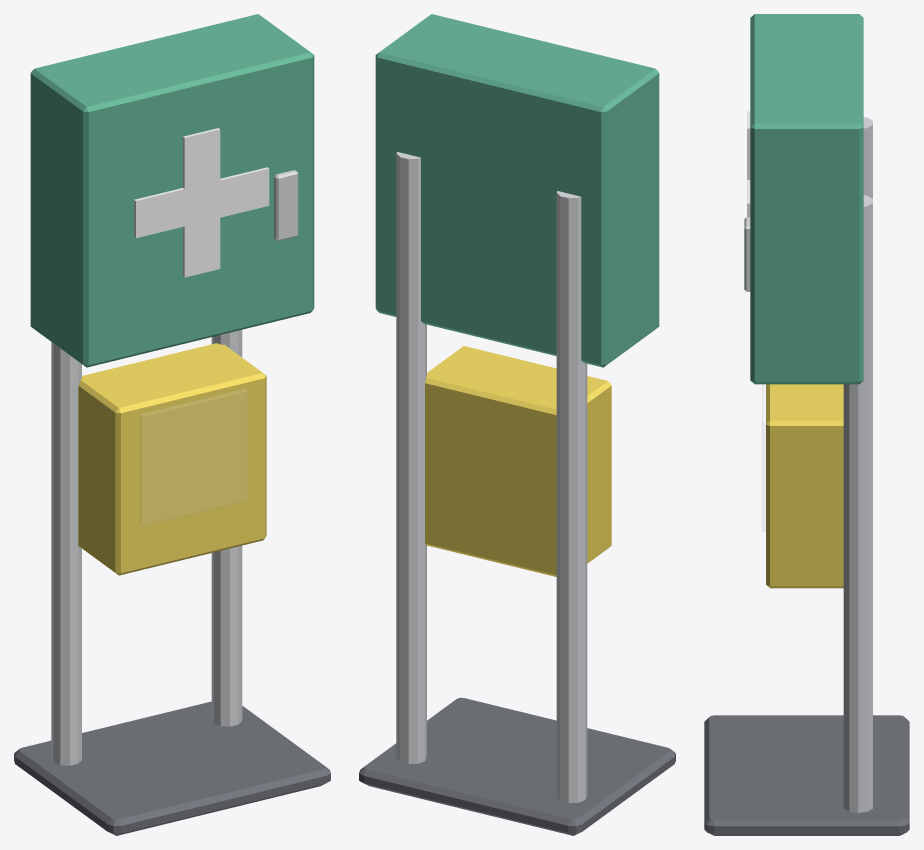
File: public-swimming-baths-and-poolside-poolside-first-aid--77ab8f2f__35254.glb
3 renders of one model, left to right at view 1: azimuth 30°, elevation 25°; view 2: azimuth 150°, elevation 25°; view 3: azimuth 270°, elevation 25°, orthographic.
Visible parts, largest first — view 1: poolside-first-aid-station; view 2: poolside-first-aid-station; view 3: poolside-first-aid-station.
Boxes of the visible parts, x1,y1,x2,y2 form: poolside-first-aid-station: (14,14,330,835); poolside-first-aid-station: (359,14,675,835); poolside-first-aid-station: (704,14,909,835).
Bounding box in the file's own units: 0.52 × 1.54 × 0.4.
